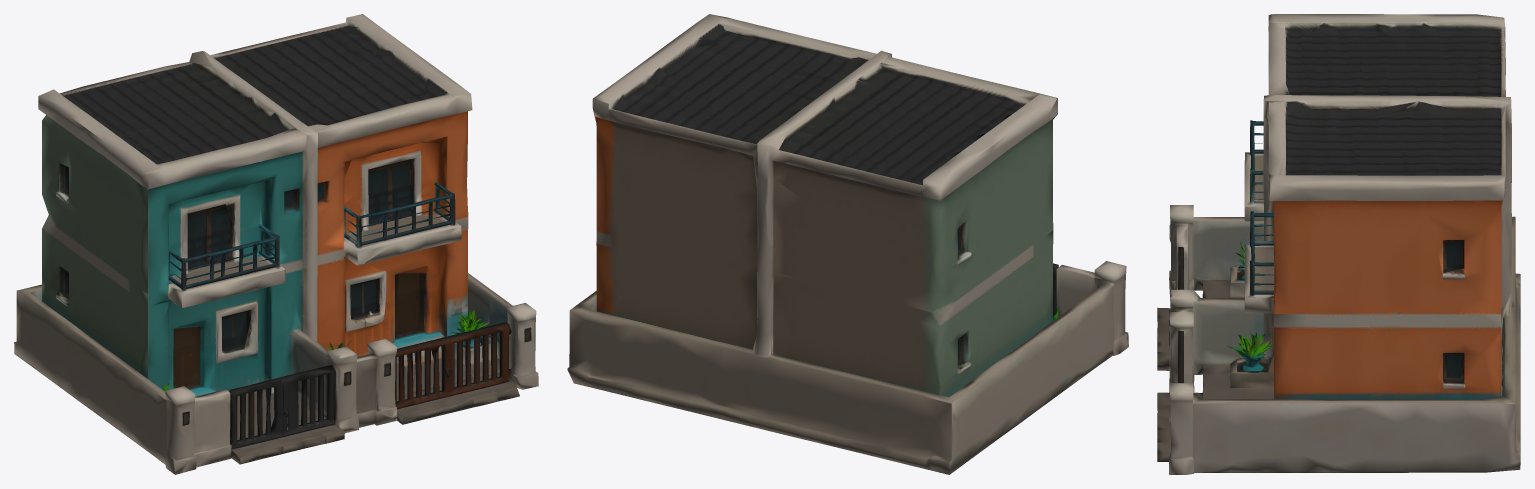
The model's file is duplex+house+3d+model.fbx.
The picture shows the model from 3 angles, left to right: view 1: azimuth 30°, elevation 25°; view 2: azimuth 150°, elevation 25°; view 3: azimuth 270°, elevation 25°; orthographic projection. The views are drawn at different scales.
Visible parts, largest first — view 1: tripo_node_63a30f05; view 2: tripo_node_63a30f05; view 3: tripo_node_63a30f05.
Part boxes in pixels (left/top/right/bottom): tripo_node_63a30f05: left=14, top=14, right=538, bottom=474; tripo_node_63a30f05: left=567, top=14, right=1128, bottom=474; tripo_node_63a30f05: left=1157, top=14, right=1520, bottom=474.
Size of the model in its own units: 1 by 0.6928 by 0.8084.
